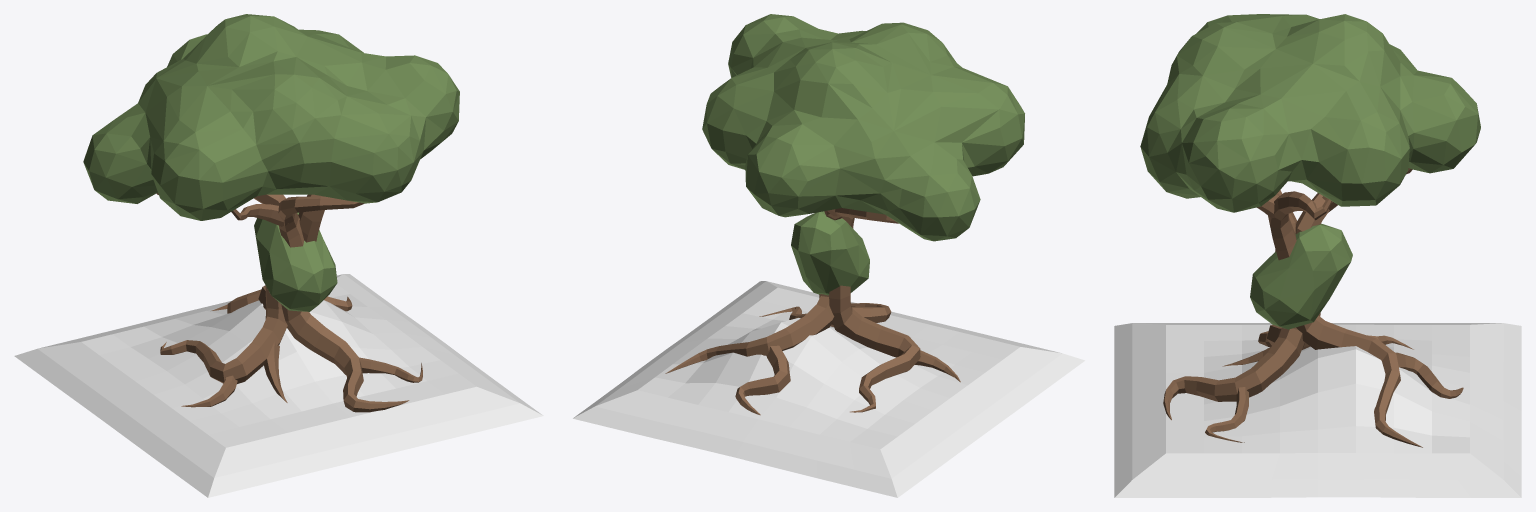
The model's file is tree_2.fbx.
3 views of the same model, side by side, from view 1: azimuth 30°, elevation 25°; view 2: azimuth 150°, elevation 25°; view 3: azimuth 270°, elevation 25° (orthographic). The views are drawn at different scales.
Visible parts, largest first — view 1: Mball.014, Plane, NurbsPath.002, NurbsPath.001, NurbsPath; view 2: Mball.014, Plane, NurbsPath.001, NurbsPath, NurbsPath.002; view 3: Plane, Mball.014, NurbsPath, NurbsPath.002, NurbsPath.001.
Part boxes in pixels (x1,y1,x2,y2): Mball.014: (83,14,459,311); Plane: (14,274,543,497); NurbsPath.002: (231,196,422,412); NurbsPath.001: (156,193,287,407); NurbsPath: (211,194,352,313); Mball.014: (702,14,1024,295); Plane: (573,281,1084,497); NurbsPath.001: (824,208,960,412); NurbsPath: (665,294,834,415); NurbsPath.002: (759,216,891,326); Plane: (1114,323,1521,497); Mball.014: (1140,14,1480,329); NurbsPath: (1257,191,1463,447); NurbsPath.002: (1163,190,1304,442); NurbsPath.001: (1222,168,1413,366).
Size of the model in its own units: 703 by 723 by 697.
